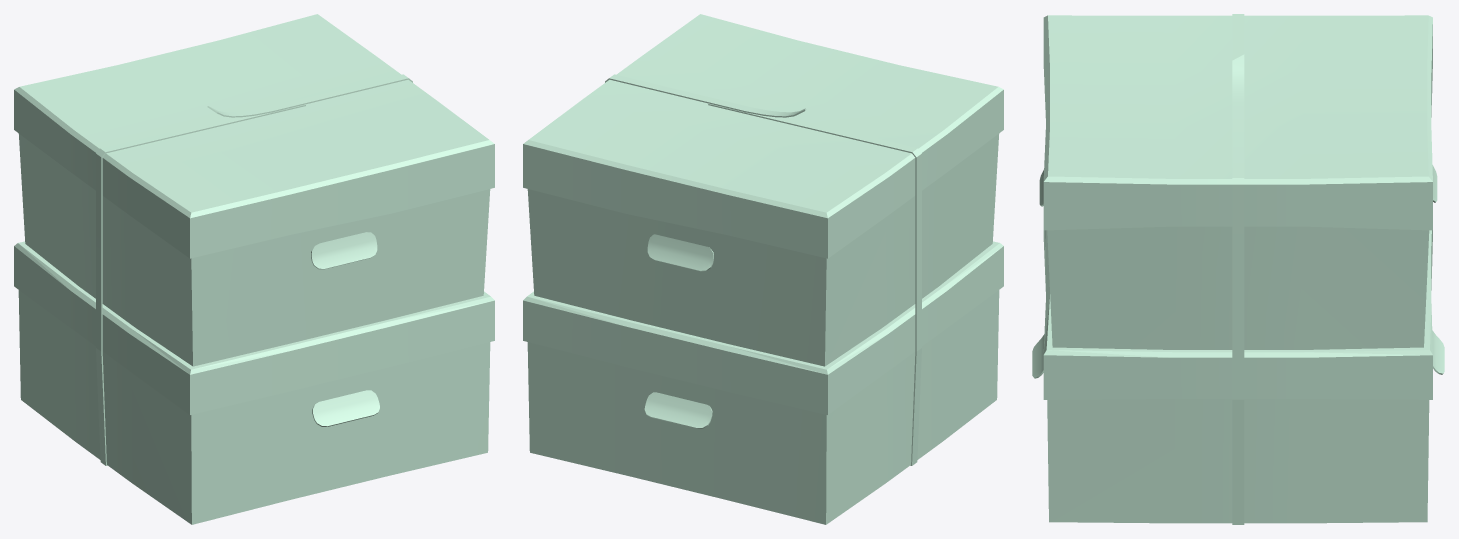
File: box_office_indoor_32.fbx
3 renders of one model, left to right at view 1: azimuth 30°, elevation 25°; view 2: azimuth 150°, elevation 25°; view 3: azimuth 270°, elevation 25°, orthographic. The views are drawn at different scales.
Visible parts, largest first — view 1: box_office_indoor_32; view 2: box_office_indoor_32; view 3: box_office_indoor_32.
Boxes of the visible parts, x1,y1,x2,y2 form: box_office_indoor_32: (14,14,494,524); box_office_indoor_32: (523,14,1003,524); box_office_indoor_32: (1032,14,1444,524).
Bounding box in the file's own units: 3335 × 3375 × 3450.
